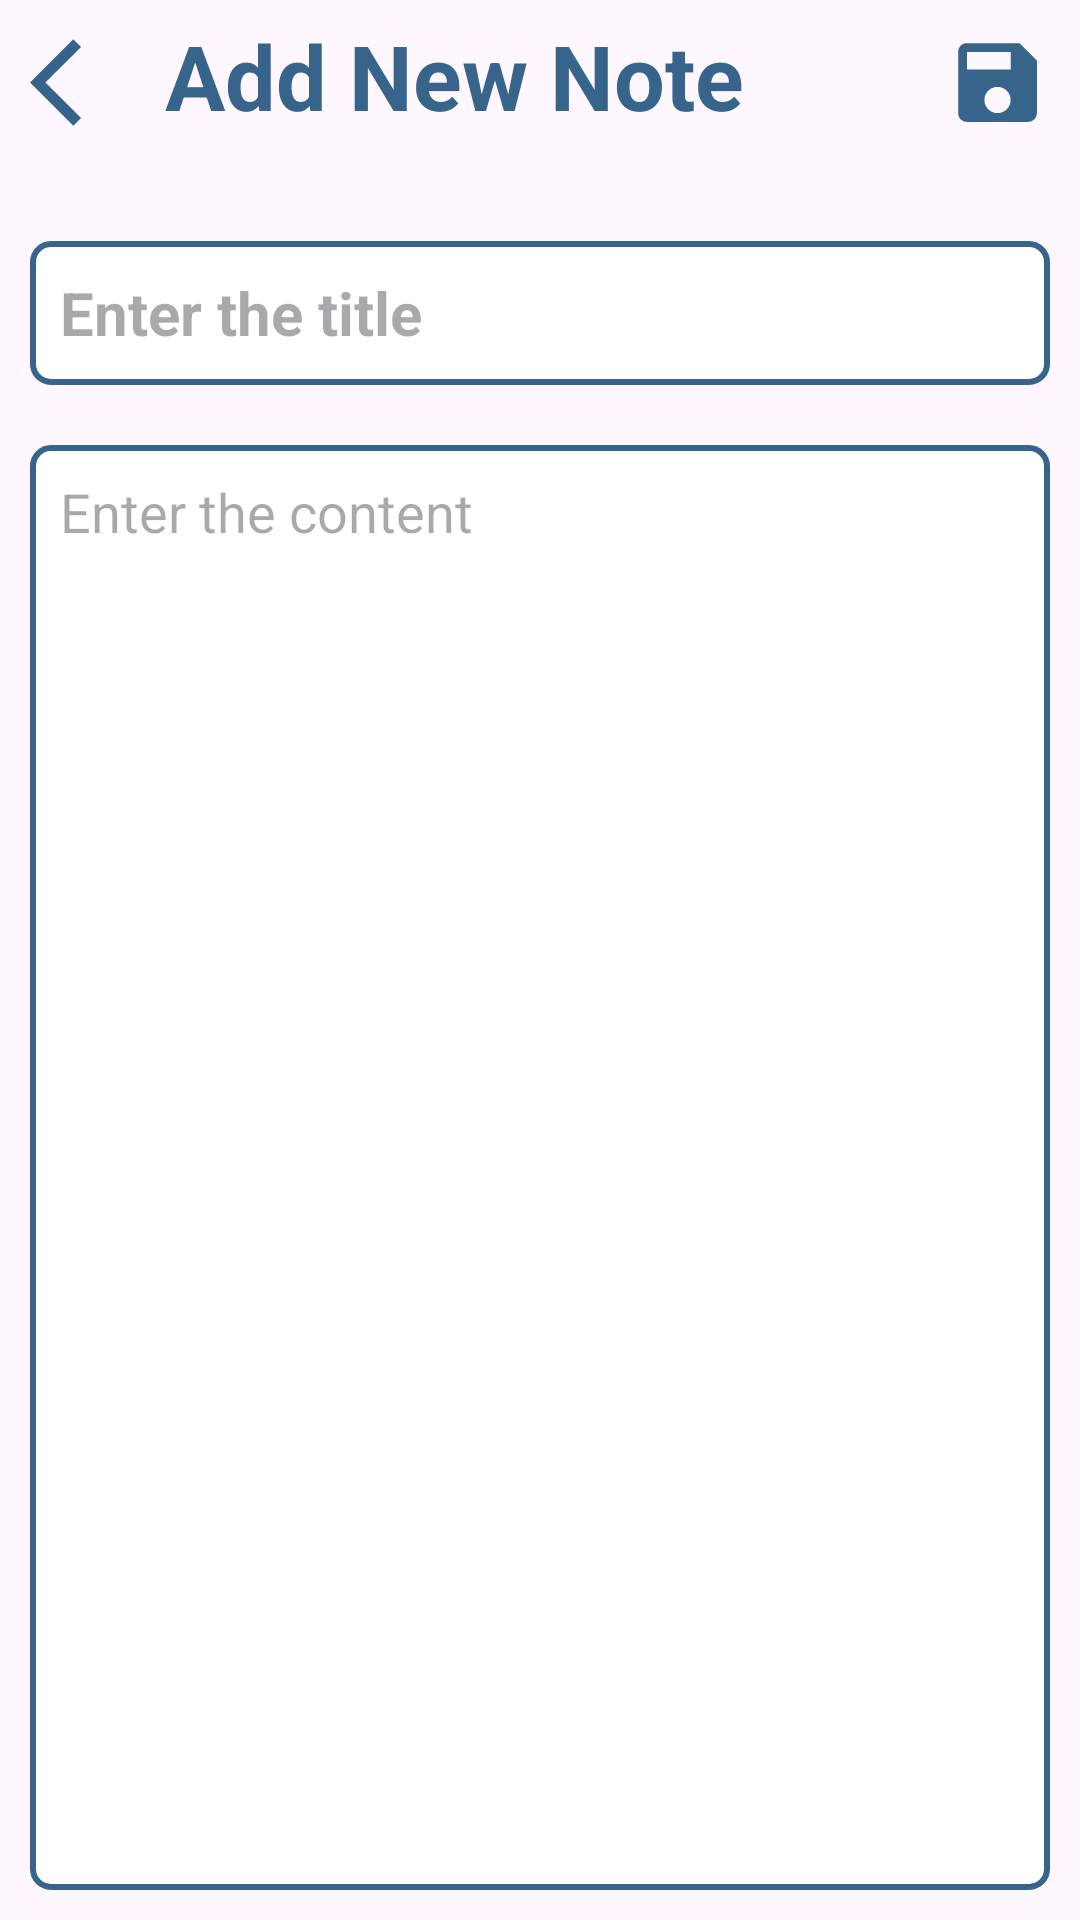

Icons on this 1080x1920 Android screen, each with the point to tap as [x,y]:
back: [55,82]
save: [997,82]
